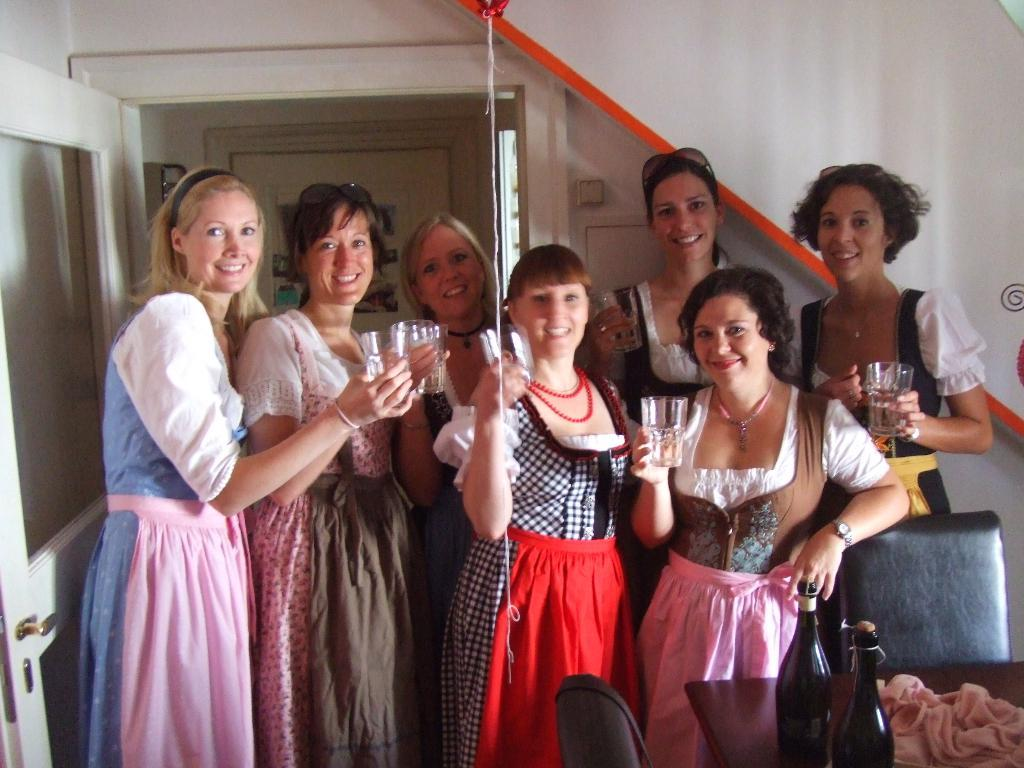Sem Máscara: (180, 187, 263, 293), (685, 284, 764, 387), (407, 219, 486, 313), (646, 171, 724, 261), (306, 201, 376, 298), (815, 175, 879, 274), (514, 277, 586, 349)
